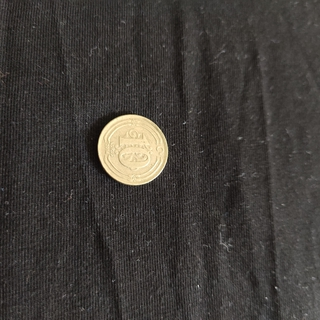10KURUS: (95, 111, 170, 187)
